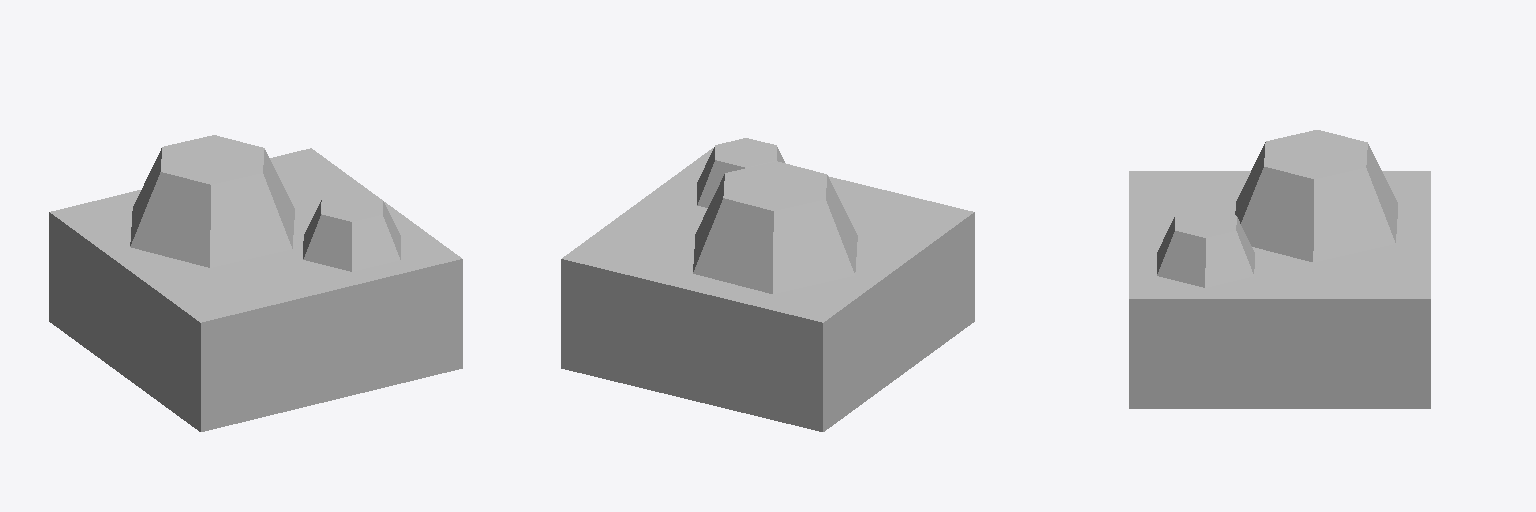
Rendered from towerDefense_074.obj.
3 renders of one model, left to right at view 1: azimuth 30°, elevation 25°; view 2: azimuth 150°, elevation 25°; view 3: azimuth 270°, elevation 25°, orthographic.
Parts seen in each view (by area): view 1: Mesh3 Group1 Model, Mesh2 Group3 Group1 Model, Mesh1 Group2 Group1 Model; view 2: Mesh3 Group1 Model, Mesh2 Group3 Group1 Model, Mesh1 Group2 Group1 Model; view 3: Mesh3 Group1 Model, Mesh2 Group3 Group1 Model, Mesh1 Group2 Group1 Model.
Boxes of the visible parts, box(x1,y1,x2,y2) form: Mesh3 Group1 Model: box(49, 148, 462, 431); Mesh2 Group3 Group1 Model: box(130, 135, 294, 267); Mesh1 Group2 Group1 Model: box(303, 192, 400, 271); Mesh3 Group1 Model: box(561, 148, 974, 431); Mesh2 Group3 Group1 Model: box(693, 161, 857, 293); Mesh1 Group2 Group1 Model: box(697, 138, 784, 207); Mesh3 Group1 Model: box(1129, 171, 1430, 408); Mesh2 Group3 Group1 Model: box(1235, 130, 1397, 262); Mesh1 Group2 Group1 Model: box(1157, 208, 1254, 287).
Bounding box in the file's own units: 1 × 0.65 × 1.